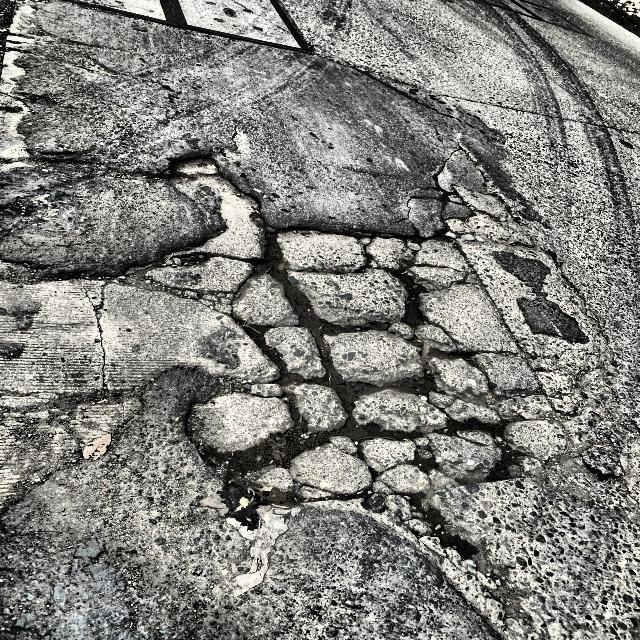alligator_cracks: (261, 230, 549, 500)
